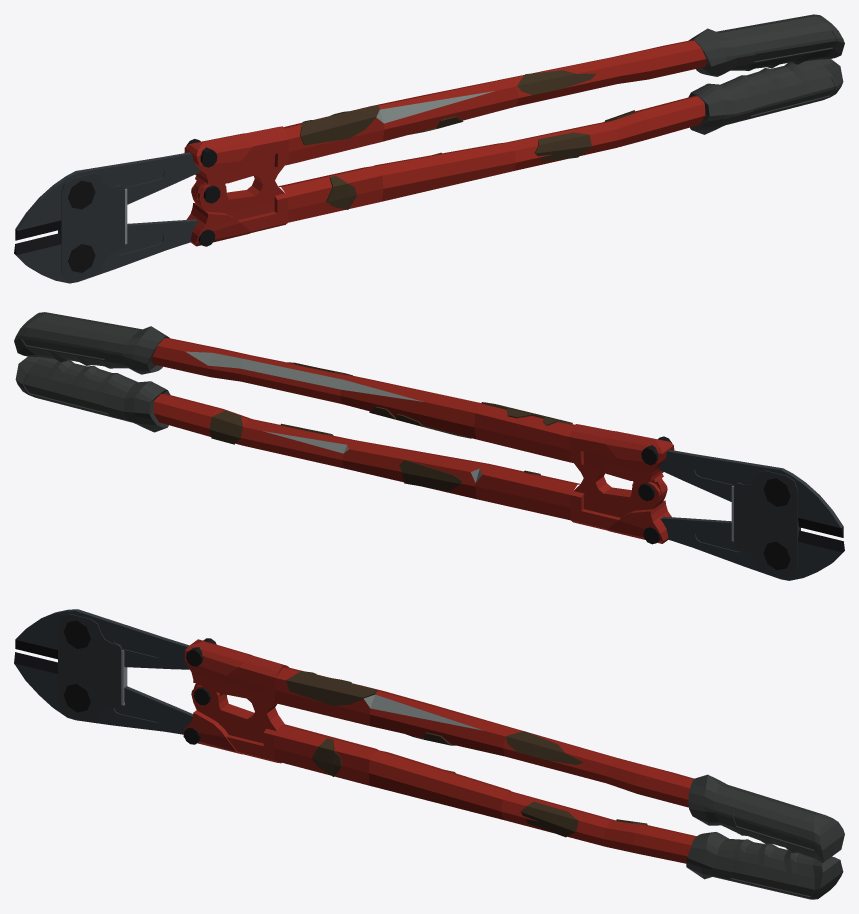
File: SM_Bolt_Cutter.gltf
3 views of the same model, one above another, from view 1: azimuth 30°, elevation 25°; view 2: azimuth 150°, elevation 25°; view 3: azimuth 330°, elevation 25° (orthographic).
Parts seen in each view (by area): view 1: SM_Bolt_Cutter.001, HOLDER_FOR_Bolt_Cutter, SM_Bolt_Cutter; view 2: SM_Bolt_Cutter.001, HOLDER_FOR_Bolt_Cutter, SM_Bolt_Cutter; view 3: HOLDER_FOR_Bolt_Cutter, SM_Bolt_Cutter.001, SM_Bolt_Cutter.
Part boxes in pixels (x1=…): SM_Bolt_Cutter.001: x1=186, y1=58, x2=843, y2=246; HOLDER_FOR_Bolt_Cutter: x1=184, y1=14, x2=844, y2=200; SM_Bolt_Cutter: x1=14, y1=152, x2=200, y2=283; SM_Bolt_Cutter.001: x1=15, y1=356, x2=671, y2=544; HOLDER_FOR_Bolt_Cutter: x1=14, y1=312, x2=674, y2=498; SM_Bolt_Cutter: x1=658, y1=449, x2=844, y2=580; HOLDER_FOR_Bolt_Cutter: x1=184, y1=638, x2=844, y2=862; SM_Bolt_Cutter.001: x1=183, y1=685, x2=843, y2=899; SM_Bolt_Cutter: x1=14, y1=609, x2=193, y2=734.
Bounding box in the file's own units: 0.5954 × 0.0809 × 0.029.
